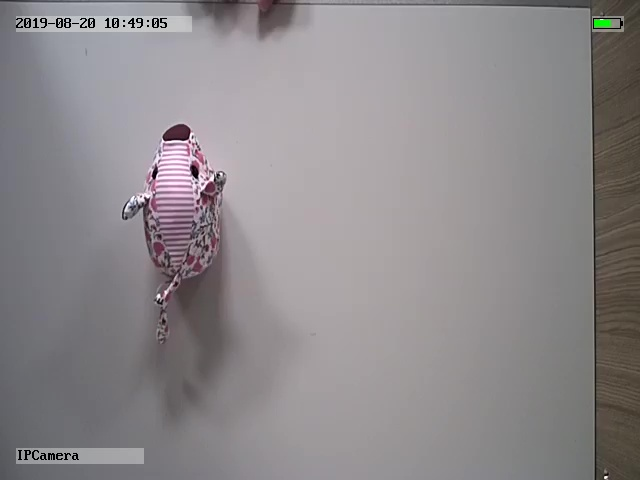pig: (120, 121, 228, 349)
